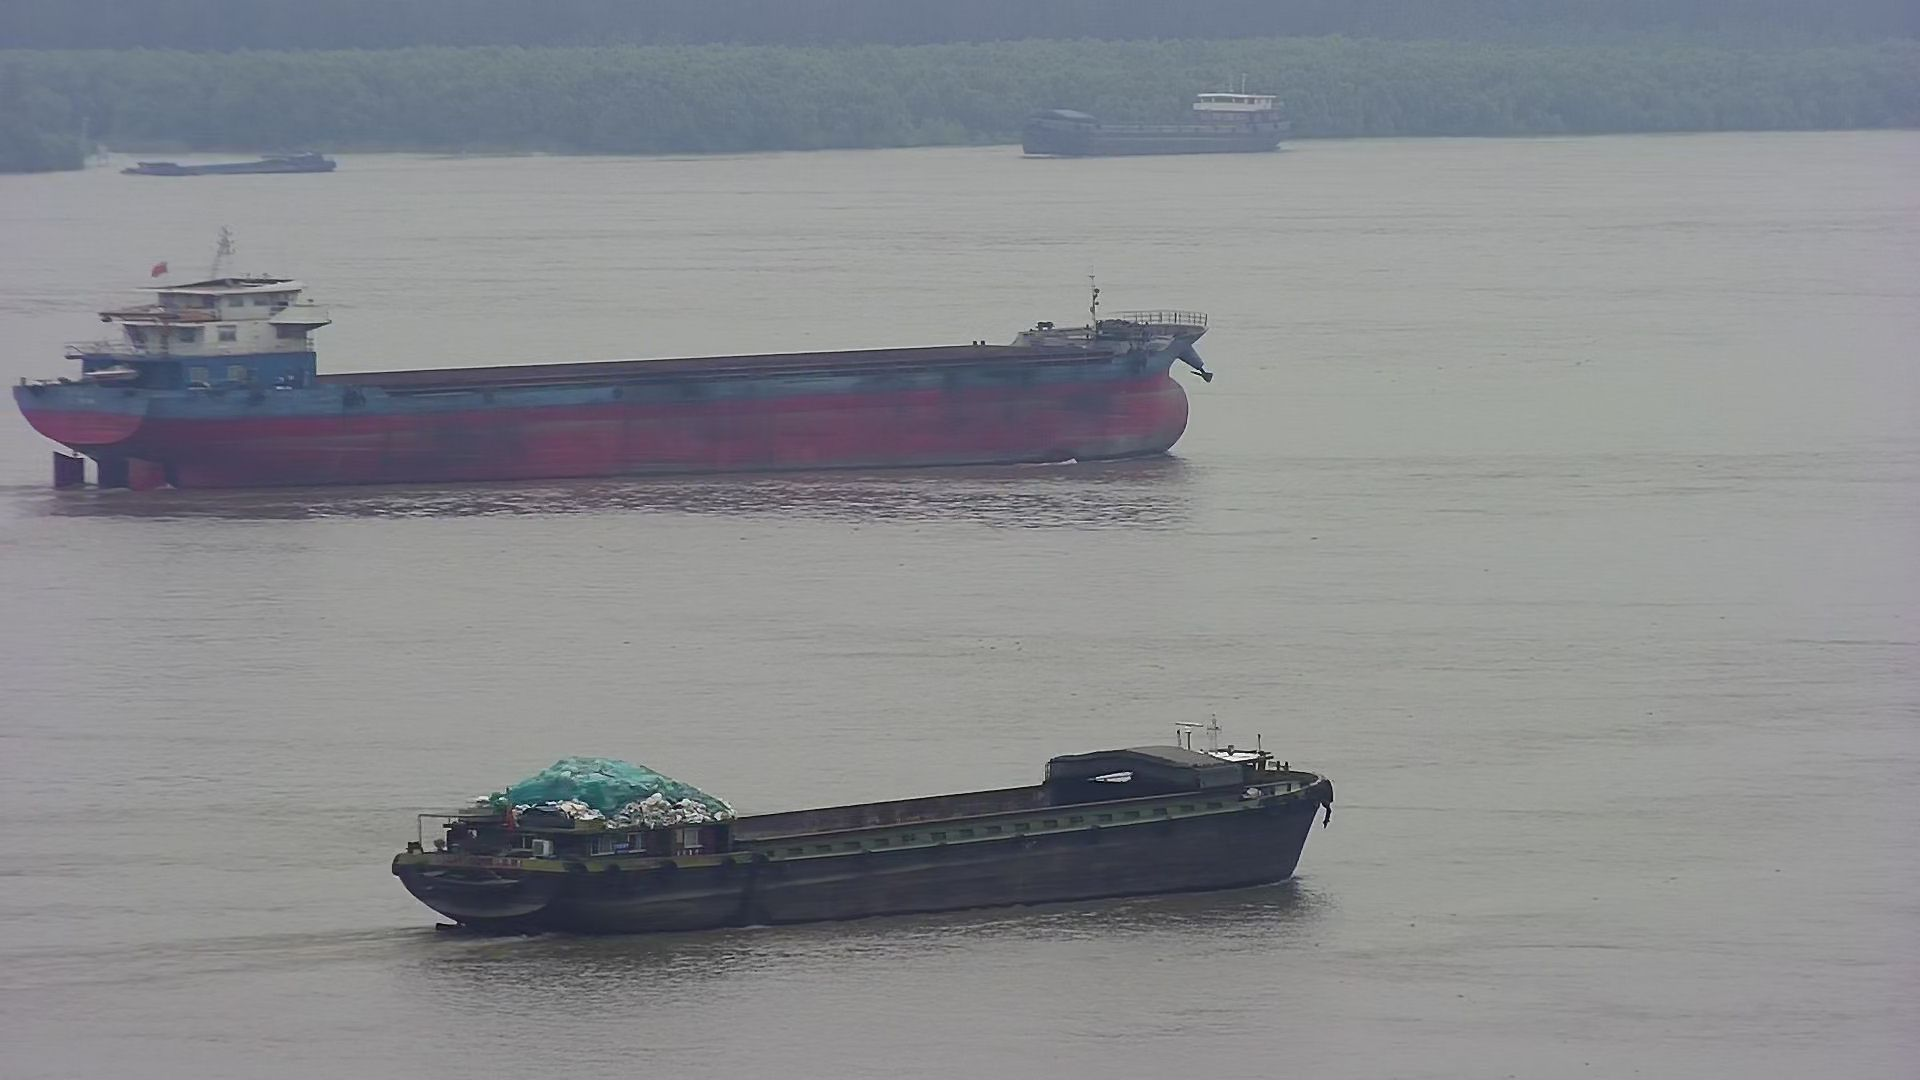boat: (123, 132, 339, 190)
ship: (12, 218, 1236, 520), (320, 711, 1377, 963), (1002, 73, 1312, 179)
